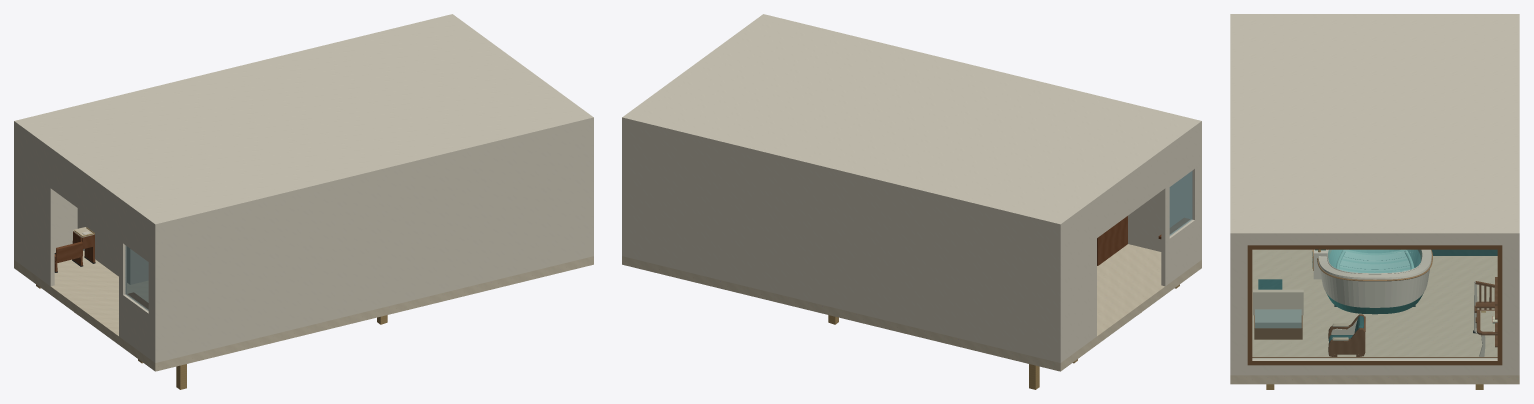
File: NG458_PanoramicSuite_r001.glb
3 views of the same model, side by side, from view 1: azimuth 30°, elevation 25°; view 2: azimuth 150°, elevation 25°; view 3: azimuth 270°, elevation 25° (orthographic). The views are drawn at different scales.
Parts seen in each view (by area): view 1: NG458_RuntimeBatch_001, NG458_RoomFloor, NG458_ScreenedStreetGlass, NG458_RuntimeBatch_013; view 2: NG458_RuntimeBatch_001, NG458_RoomFloor, NG458_ScreenedStreetGlass, NG458_RuntimeBatch_002; view 3: NG458_RuntimeBatch_001, NGP_458_PrivateViewPane, NG458_RoomFloor, NG458_ReservedRestSupport_01__Hollow continuous basin shell , NG458_ReservedRestSupport_01__WaterSurface_VisualOnly, NGP_458_Frame_Sill, NG458_ReservedRestSupport_01__Contoured broad immersed rest , NGP_458_Frame_Head, NGP_458_ViewSeat_Back, NGP_458_ViewSeat_Cushion, NG458_RuntimeBatch_028, NG458_RuntimeBatch_006 (+6 smaller).
Part boxes in pixels (box(x1,y1,x2,y2)): NG458_RuntimeBatch_001: box(14, 14, 593, 362); NG458_RoomFloor: box(14, 250, 593, 371); NG458_ScreenedStreetGlass: box(125, 245, 148, 310); NG458_RuntimeBatch_013: box(54, 231, 95, 271); NG458_RuntimeBatch_001: box(622, 14, 1201, 362); NG458_RoomFloor: box(622, 244, 1201, 371); NG458_ScreenedStreetGlass: box(1169, 171, 1192, 235); NG458_RuntimeBatch_002: box(1097, 216, 1190, 265); NG458_RuntimeBatch_001: box(1230, 14, 1519, 375); NGP_458_PrivateViewPane: box(1252, 250, 1497, 358); NG458_RoomFloor: box(1230, 249, 1519, 384); NG458_ReservedRestSupport_01__Hollow continuous basin shell : box(1318, 249, 1431, 314); NG458_ReservedRestSupport_01__WaterSurface_VisualOnly: box(1329, 250, 1420, 272); NGP_458_Frame_Sill: box(1247, 357, 1502, 365); NG458_ReservedRestSupport_01__Contoured broad immersed rest : box(1339, 249, 1410, 273); NGP_458_Frame_Head: box(1247, 245, 1502, 249); NGP_458_ViewSeat_Back: box(1253, 289, 1303, 315); NGP_458_ViewSeat_Cushion: box(1255, 309, 1301, 328); NG458_RuntimeBatch_028: box(1328, 314, 1365, 356); NG458_RuntimeBatch_006: box(1258, 249, 1497, 289).
Bounding box in the file's own units: 12.9 × 5.31 × 7.2.
71 materials, 49 textured.
